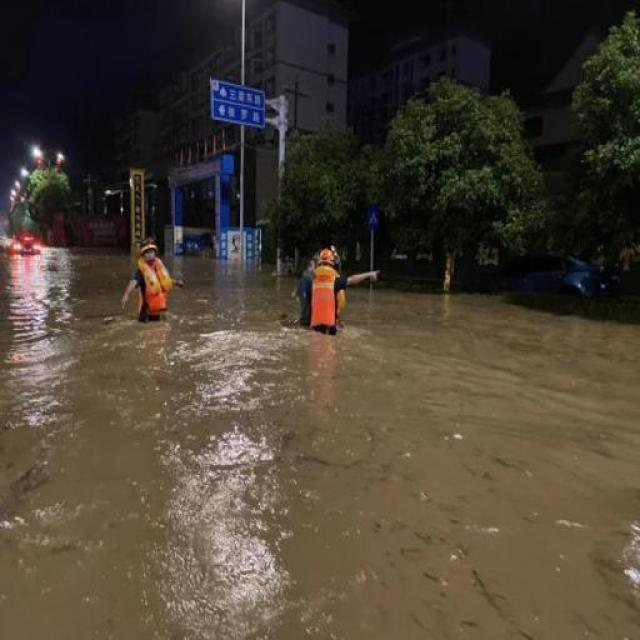rescuer: (121, 233, 195, 343), (301, 232, 346, 352)
